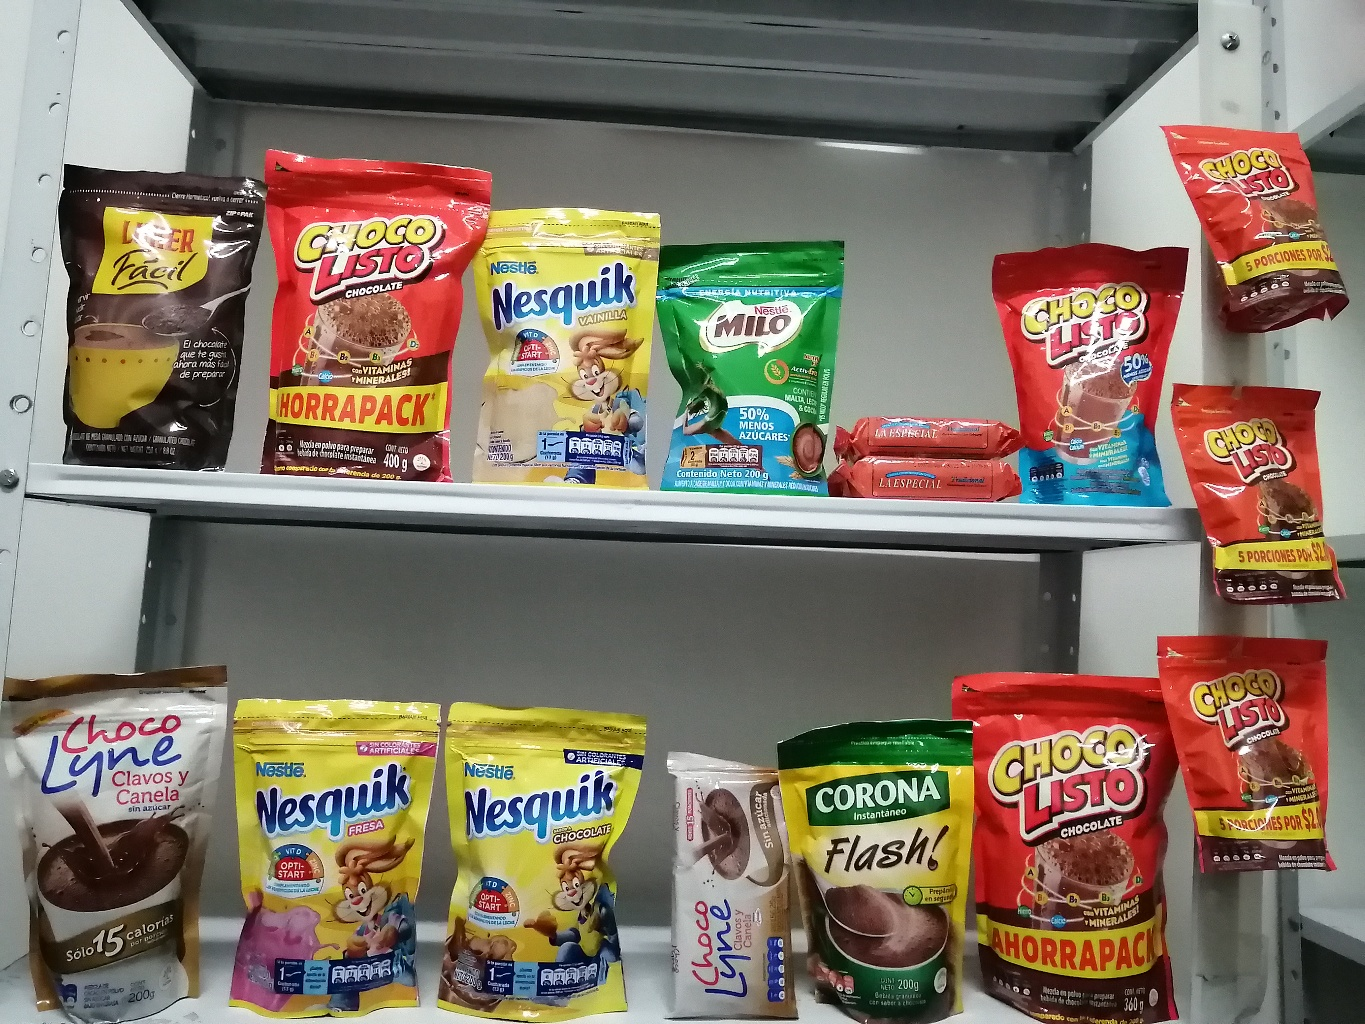COL0170103DYP10000: (1164, 118, 1339, 327)
COL0170103DYP36000: (955, 668, 1191, 1024)
COL0170103DYP40000: (264, 143, 480, 484)
COL0170104DYP20000: (989, 231, 1180, 508)
COL0170205DYP20000: (656, 232, 851, 495)
COL0170303DYP20000: (436, 695, 659, 1024)
COL0170305DYP20000: (221, 699, 441, 1024)
COL0170306DYP20000: (469, 195, 660, 501)
